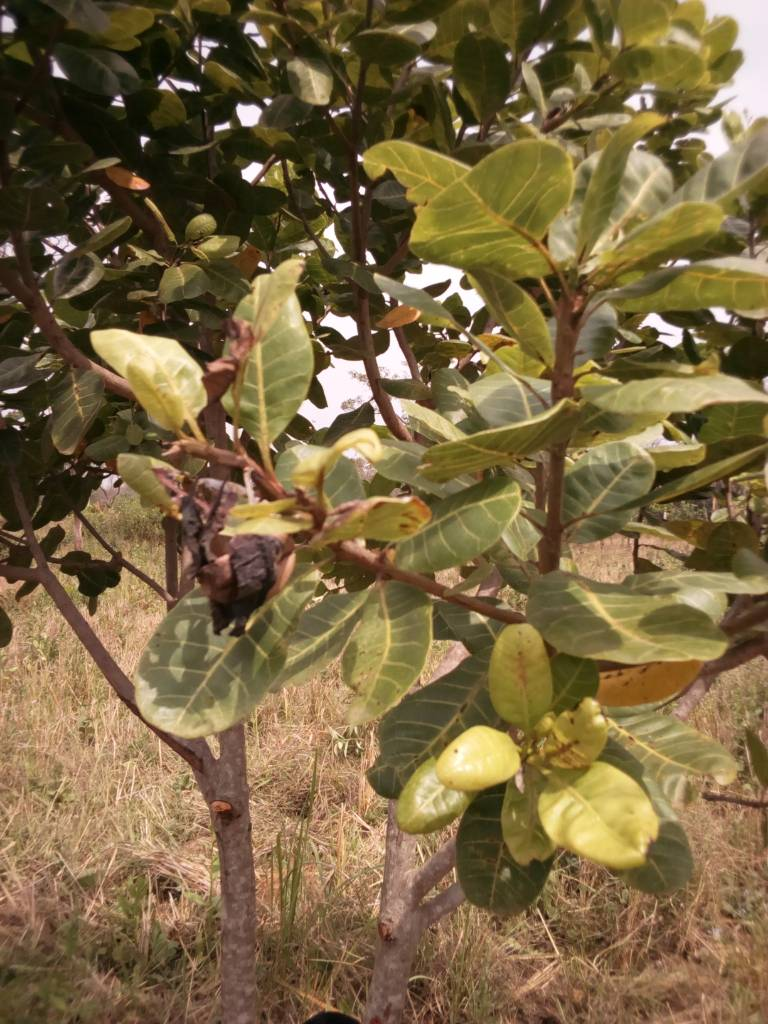Dessèchement des bourgeons: (146, 464, 308, 632)
